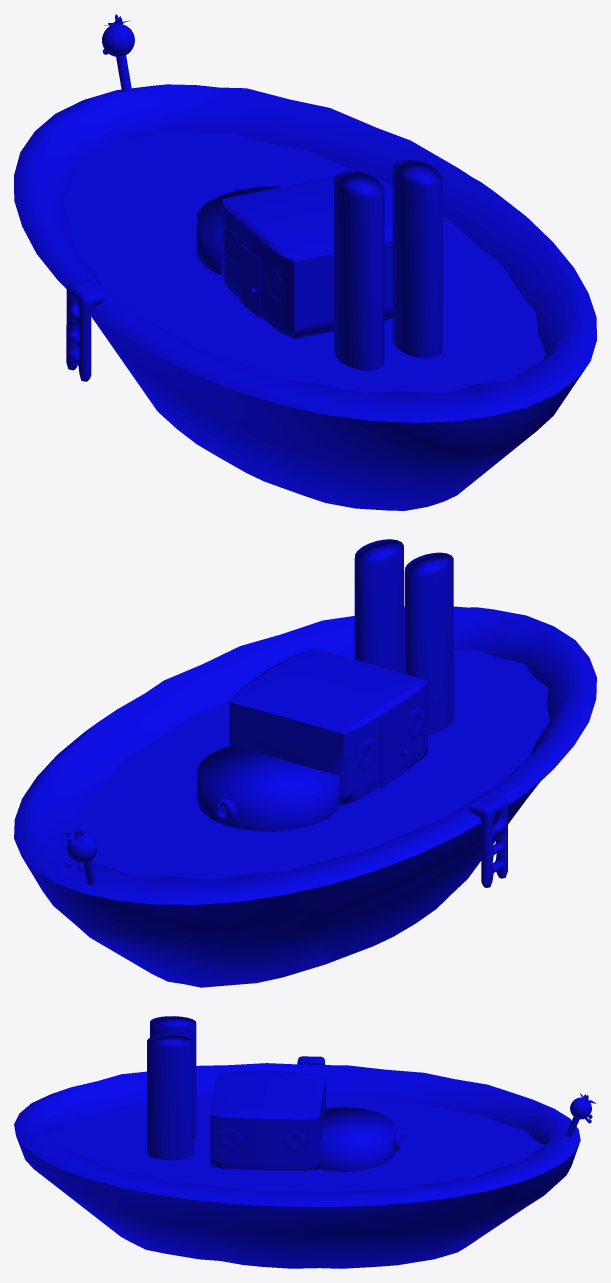
File: boatFBX.fbx
3 renders of one model, top to bottom at view 1: azimuth 30°, elevation 25°; view 2: azimuth 150°, elevation 25°; view 3: azimuth 270°, elevation 25°, orthographic. The views are drawn at different scales.
Visible parts, largest first — view 1: Boat; view 2: Boat; view 3: Boat.
Boxes of the visible parts, <box> form: Boat: <box>14,14,596,510</box>; Boat: <box>14,539,596,987</box>; Boat: <box>14,1016,595,1268</box>.
Size of the model in its own units: 900 by 610 by 1577.
